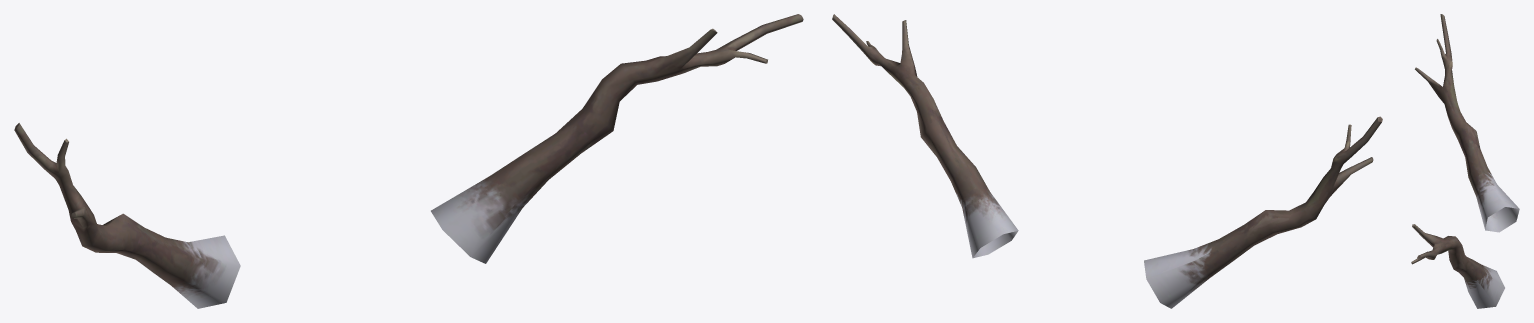
The model's file is Homeworld_Exterior_Common_Prop_Thing_SnowmanHands_04_Vo.fbx.
3 renders of one model, left to right at view 1: azimuth 30°, elevation 25°; view 2: azimuth 150°, elevation 25°; view 3: azimuth 270°, elevation 25°, orthographic. The views are drawn at different scales.
Visible parts, largest first — view 1: Homeworld_Exterior_Common_Prop_Thing_SnowmanHands_04_Vo; view 2: Homeworld_Exterior_Common_Prop_Thing_SnowmanHands_04_Vo; view 3: Homeworld_Exterior_Common_Prop_Thing_SnowmanHands_04_Vo.
Part boxes in pixels (left/top/right/bottom): Homeworld_Exterior_Common_Prop_Thing_SnowmanHands_04_Vo: left=14, top=14, right=803, bottom=308; Homeworld_Exterior_Common_Prop_Thing_SnowmanHands_04_Vo: left=832, top=14, right=1382, bottom=308; Homeworld_Exterior_Common_Prop_Thing_SnowmanHands_04_Vo: left=1411, top=14, right=1519, bottom=308.
Size of the model in its own units: 1.93 by 0.6881 by 0.4255.
